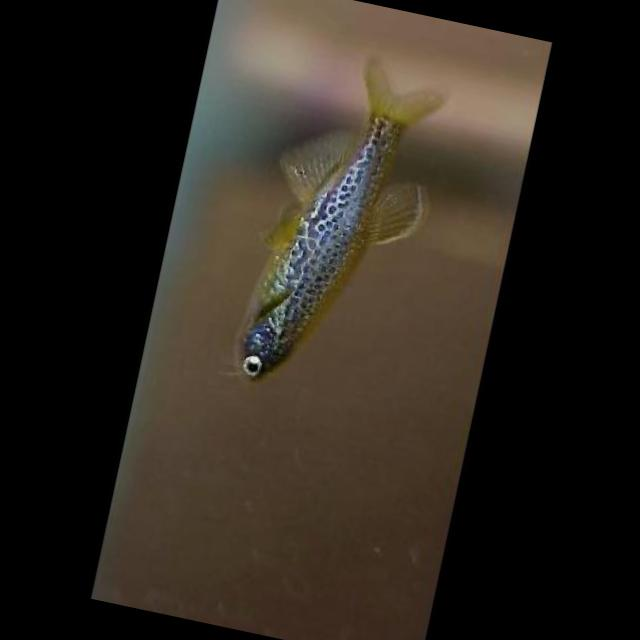ZebraFish: (229, 43, 453, 401)
